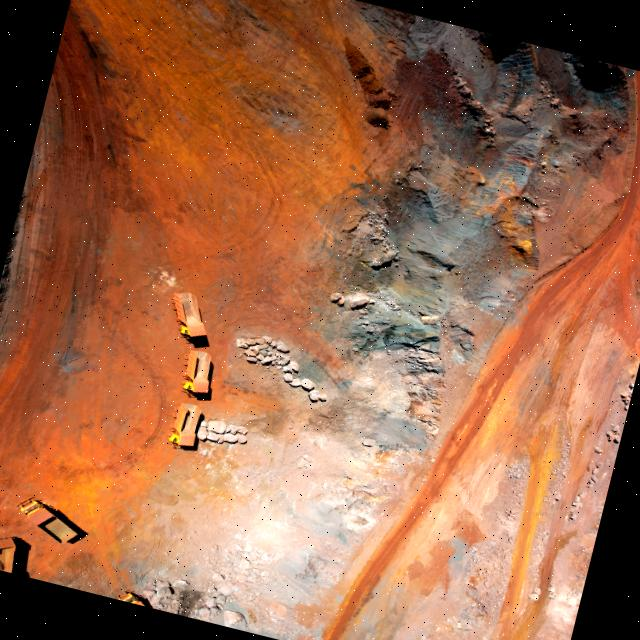Dumper truck: (12, 496, 90, 544), (165, 290, 212, 341), (178, 348, 220, 398), (165, 400, 205, 450), (0, 534, 32, 576), (0, 536, 27, 575), (116, 590, 162, 610)
